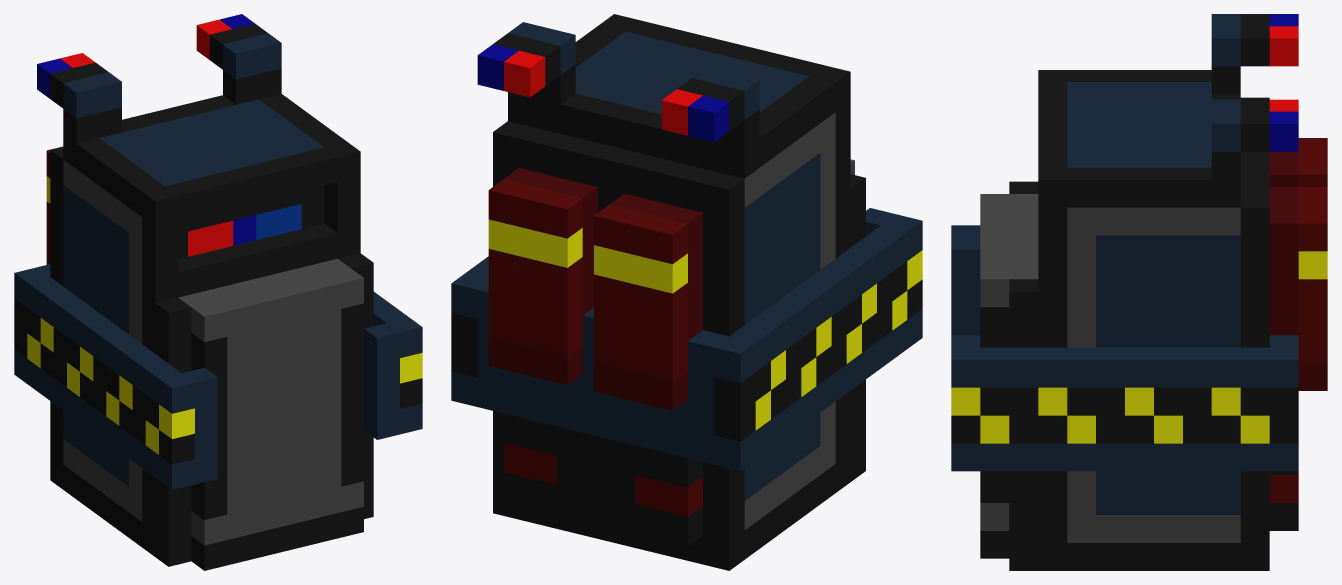
File: PoliceBot.fbx
3 views of the same model, side by side, from view 1: azimuth 30°, elevation 25°; view 2: azimuth 150°, elevation 25°; view 3: azimuth 270°, elevation 25° (orthographic). The views are drawn at different scales.
Visible parts, largest first — view 1: PoliceBot; view 2: PoliceBot; view 3: PoliceBot.
Boxes of the visible parts, x1=… form: PoliceBot: x1=14, y1=14, x2=422, y2=570; PoliceBot: x1=451, y1=14, x2=922, y2=570; PoliceBot: x1=951, y1=14, x2=1327, y2=570.
Bounding box in the file's own units: 90.64 × 140 × 107.
Materials: 1 (1 with a texture image).
